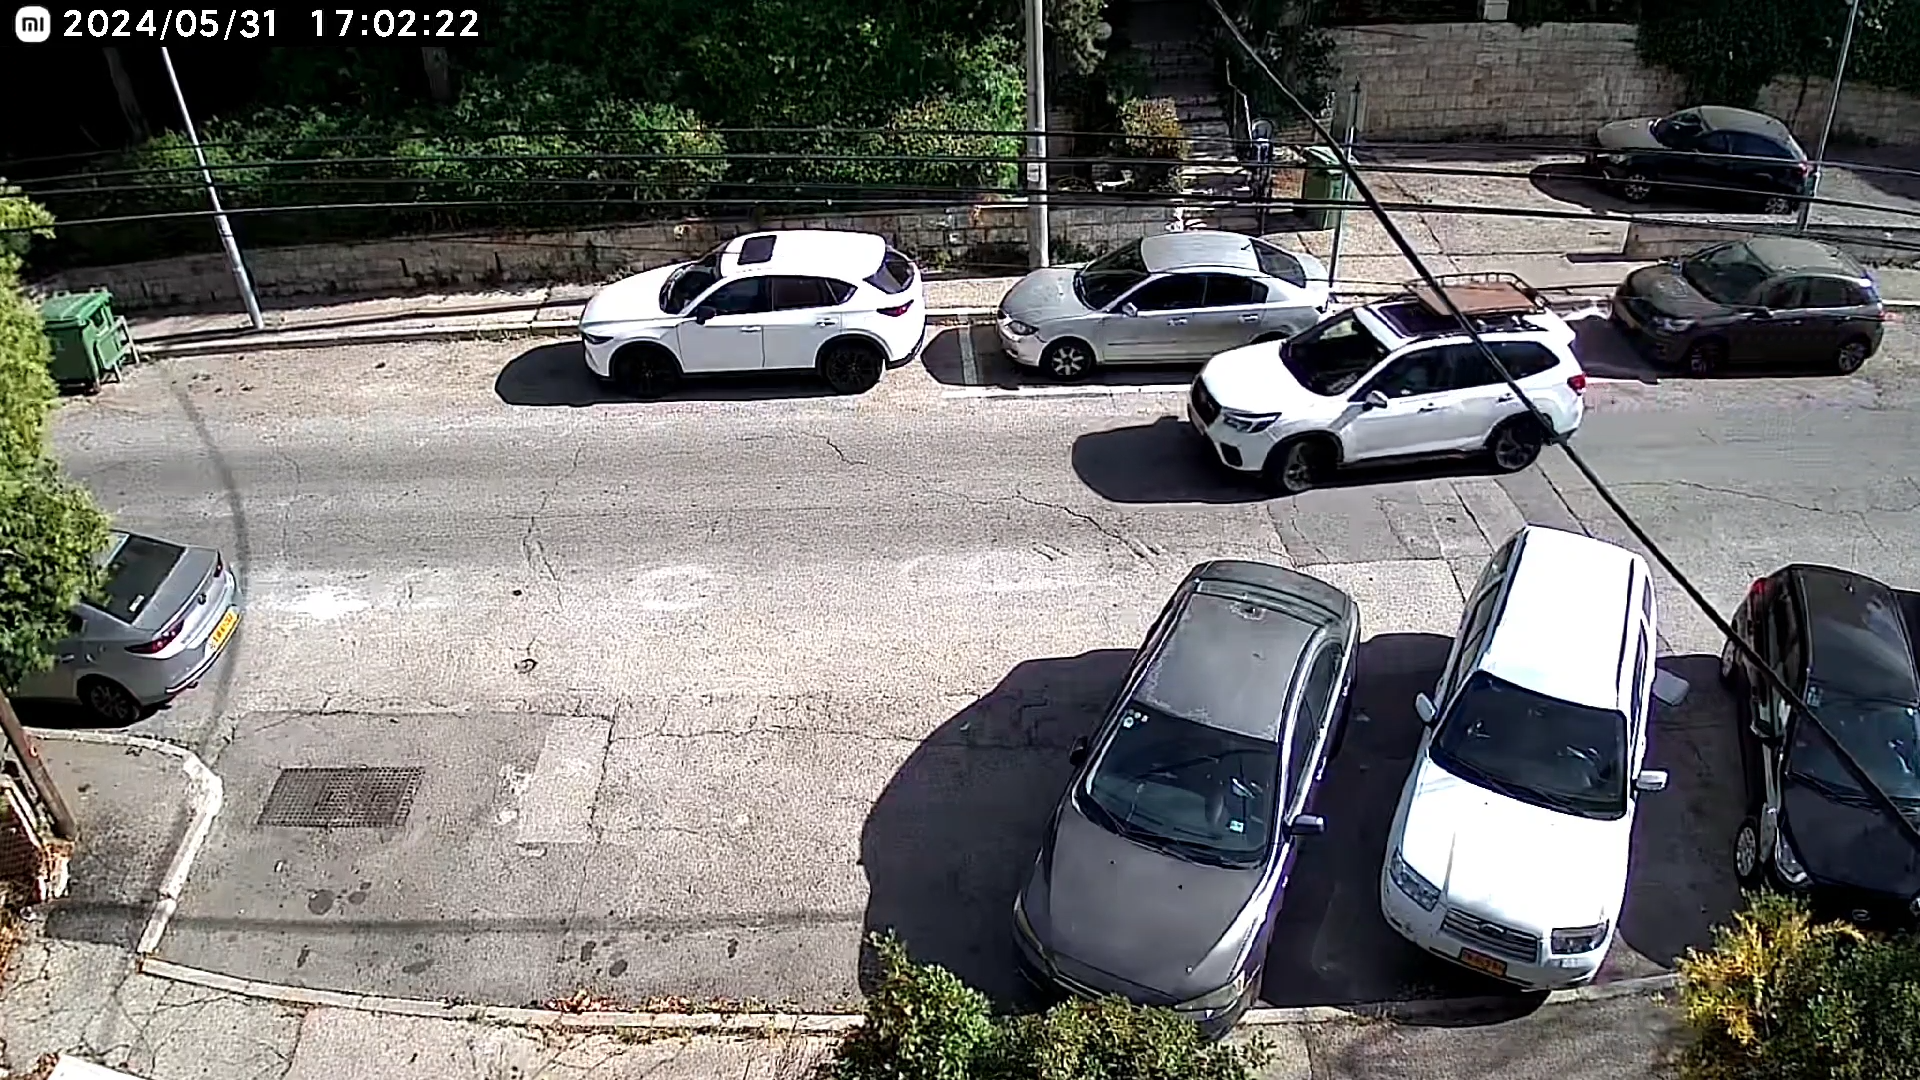moving car: (1184, 280, 1586, 487)
